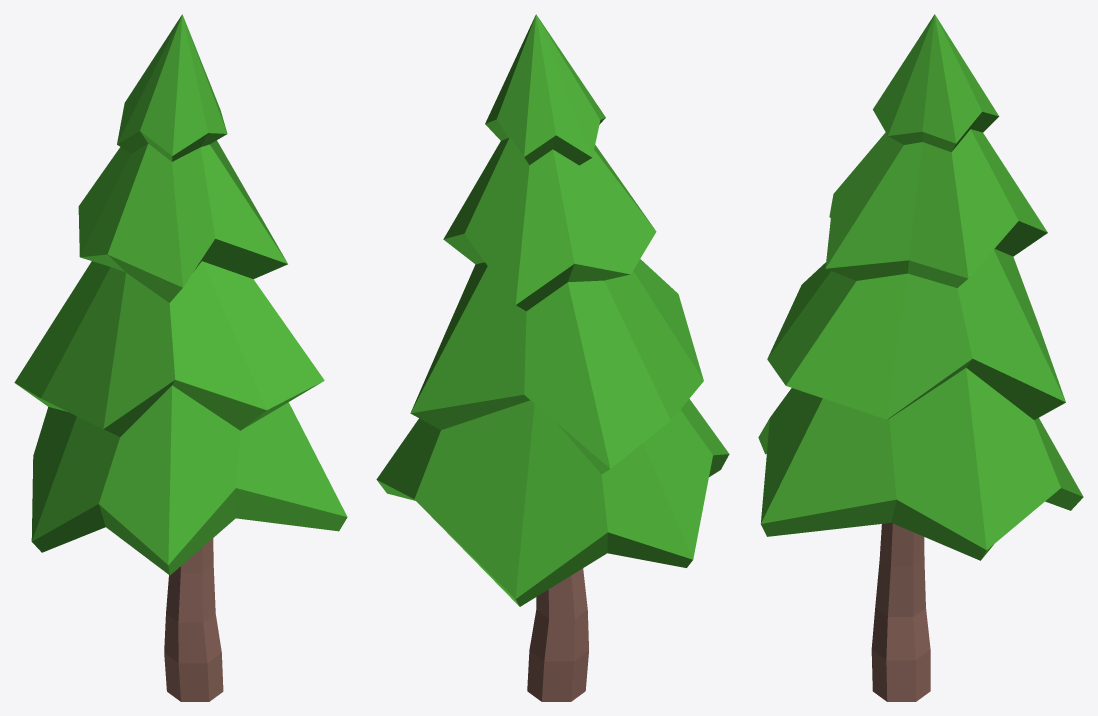
File: tree_pine.fbx
3 views of the same model, side by side, from view 1: azimuth 30°, elevation 25°; view 2: azimuth 150°, elevation 25°; view 3: azimuth 270°, elevation 25° (orthographic). The views are drawn at different scales.
Visible parts, largest first — view 1: tree; view 2: tree; view 3: tree.
Boxes of the visible parts, bbox=[...] form: tree: bbox=[14, 14, 347, 701]; tree: bbox=[376, 14, 729, 701]; tree: bbox=[758, 14, 1083, 701].
Size of the model in its own units: 337 by 766 by 333.
